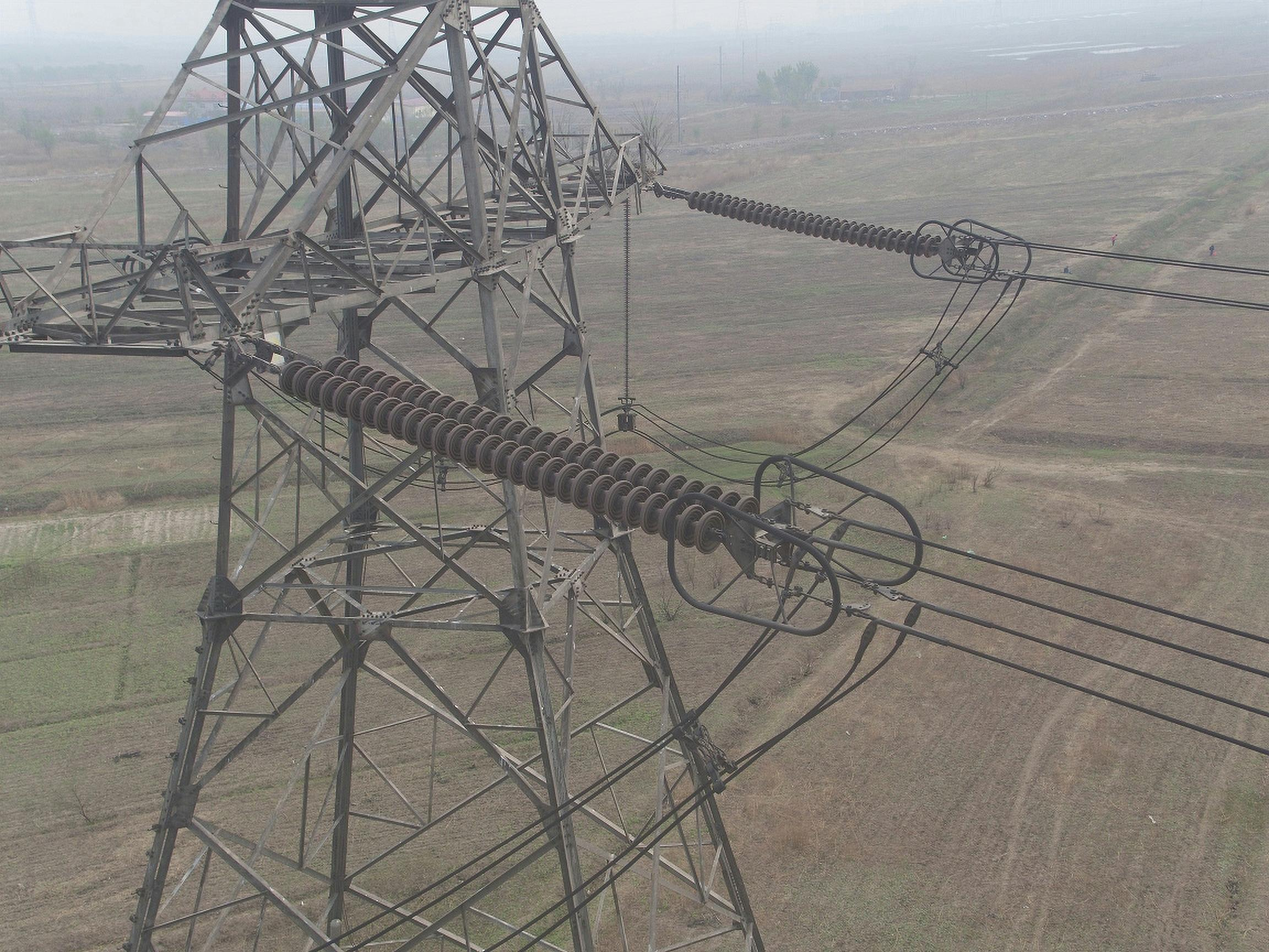insulator: (274, 353, 764, 558), (685, 186, 945, 260), (618, 194, 634, 399)
